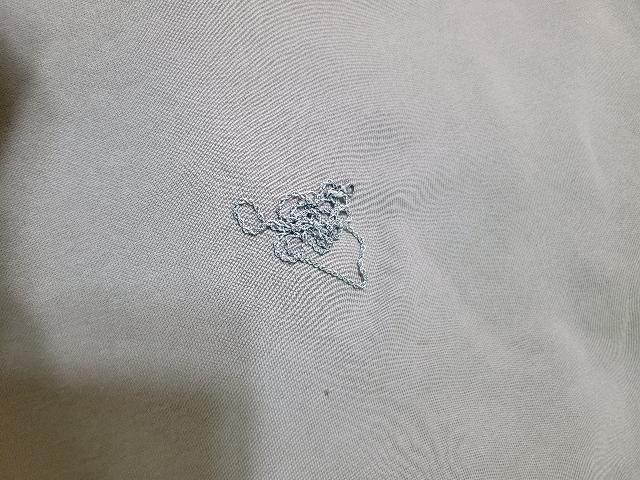Metal: (230, 179, 372, 291)
